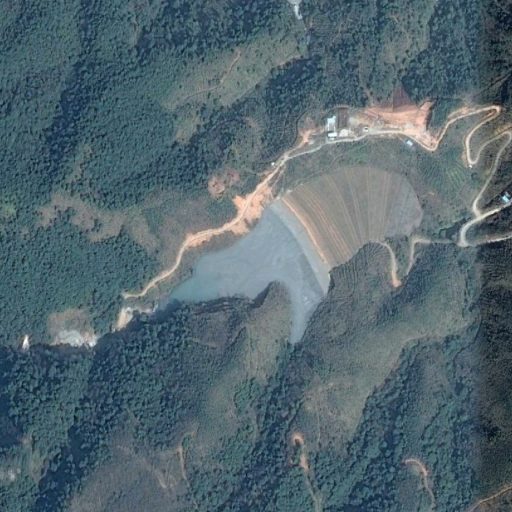tp: (154, 165, 423, 353)
